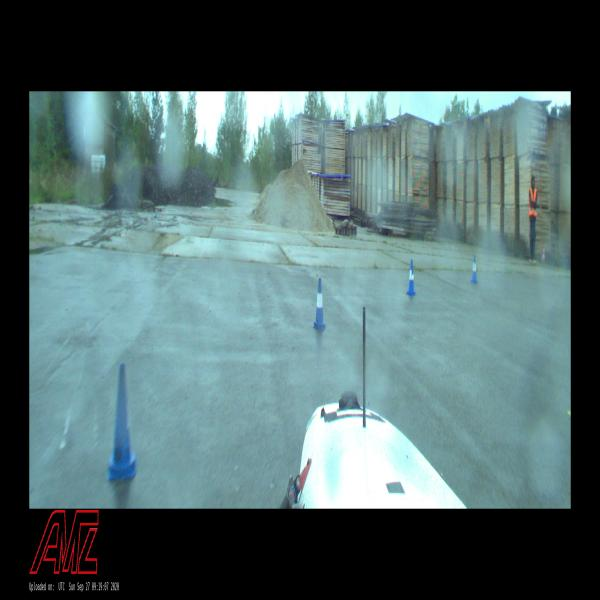blue_cone: (108, 364, 137, 478), (313, 279, 326, 330), (407, 260, 416, 296), (471, 256, 478, 282)
